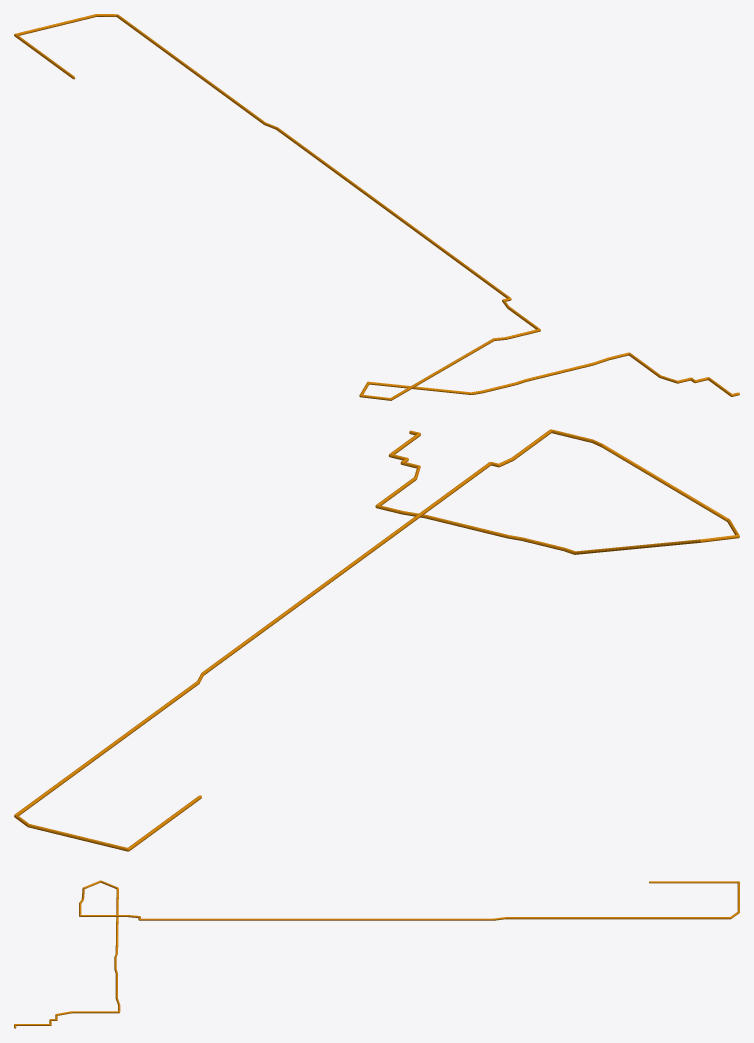
3 renders of one model, top to bottom at view 1: azimuth 30°, elevation 25°; view 2: azimuth 150°, elevation 25°; view 3: azimuth 270°, elevation 25°, orthographic. The views are drawn at different scales.
Size of the model in its own units: 2406 by 520 by 6142.
